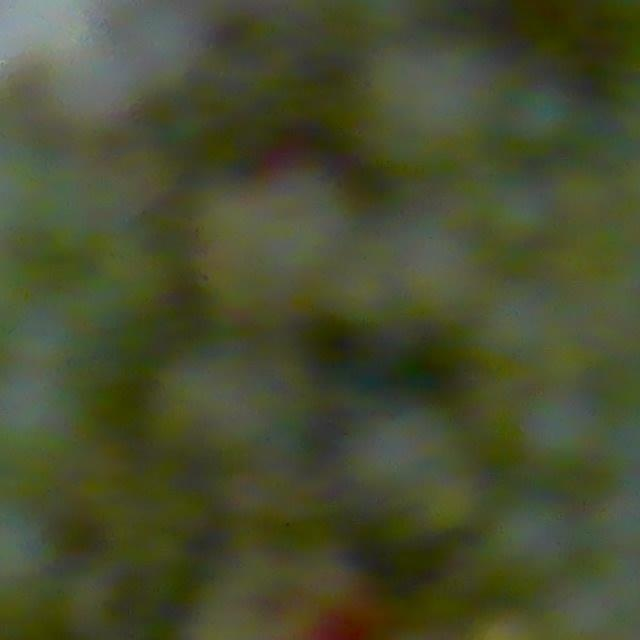SeaGrape: (486, 494, 577, 582), (517, 390, 600, 472)
